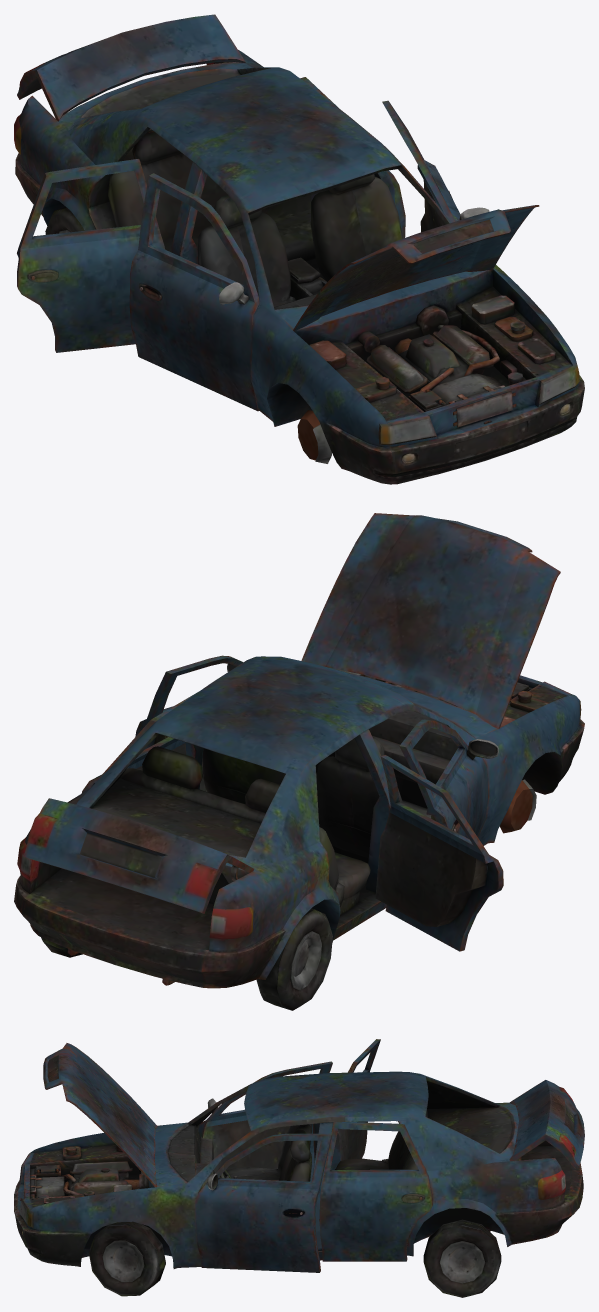
Rendered from wreck_sedan.glb.
3 views of the same model, one above another, from view 1: azimuth 30°, elevation 25°; view 2: azimuth 150°, elevation 25°; view 3: azimuth 270°, elevation 25° (orthographic). The views are drawn at different scales.
Parts seen in each view (by area): view 1: Object_4, Object_16, Object_8, Object_10, Object_20, Object_12, Object_6, Object_28, Object_14, Object_34, Object_26; view 2: Object_4, Object_6, Object_16, Object_10, Object_12, Object_8, Object_26, Object_14, Object_28, Object_34, Object_30, Object_20; view 3: Object_4, Object_28, Object_30, Object_6, Object_32, Object_24, Object_12, Object_8, Object_20, Object_16, Object_14, Object_10.
Part boxes in pixels (left/top/right/bottom): Object_4: left=14, top=50, right=584, bottom=484; Object_16: left=108, top=129, right=402, bottom=306; Object_8: left=129, top=173, right=259, bottom=411; Object_10: left=17, top=159, right=165, bottom=352; Object_20: left=309, top=295, right=555, bottom=411; Object_12: left=17, top=14, right=245, bottom=121; Object_6: left=293, top=205, right=539, bottom=331; Object_28: left=382, top=100, right=489, bottom=232; Object_14: left=274, top=257, right=326, bottom=309; Object_34: left=297, top=410, right=331, bottom=463; Object_26: left=45, top=207, right=84, bottom=234; Object_4: left=14, top=656, right=584, bottom=988; Object_6: left=301, top=513, right=560, bottom=728; Object_16: left=120, top=737, right=431, bottom=915; Object_10: left=375, top=755, right=503, bottom=951; Object_12: left=23, top=798, right=253, bottom=913; Object_8: left=399, top=719, right=498, bottom=838; Object_26: left=256, top=908, right=332, bottom=1010; Object_14: left=319, top=710, right=458, bottom=826; Object_28: left=135, top=655, right=243, bottom=791; Object_34: left=499, top=779, right=536, bottom=833; Object_30: left=81, top=692, right=197, bottom=793; Object_20: left=333, top=668, right=549, bottom=727; Object_4: left=14, top=1071, right=583, bottom=1268; Object_28: left=195, top=1133, right=332, bottom=1272; Object_30: left=319, top=1122, right=432, bottom=1261; Object_6: left=43, top=1043, right=157, bottom=1187; Object_32: left=423, top=1219, right=501, bottom=1297; Object_24: left=88, top=1221, right=165, bottom=1296; Object_12: left=509, top=1080, right=584, bottom=1168; Object_8: left=198, top=1061, right=332, bottom=1181; Object_20: left=35, top=1145, right=148, bottom=1203; Object_16: left=223, top=1109, right=428, bottom=1181; Object_14: left=168, top=1124, right=237, bottom=1192; Object_10: left=330, top=1039, right=380, bottom=1169.
Size of the model in its own units: 2.74 by 1.67 by 4.6.
1 material, 1 textured.
